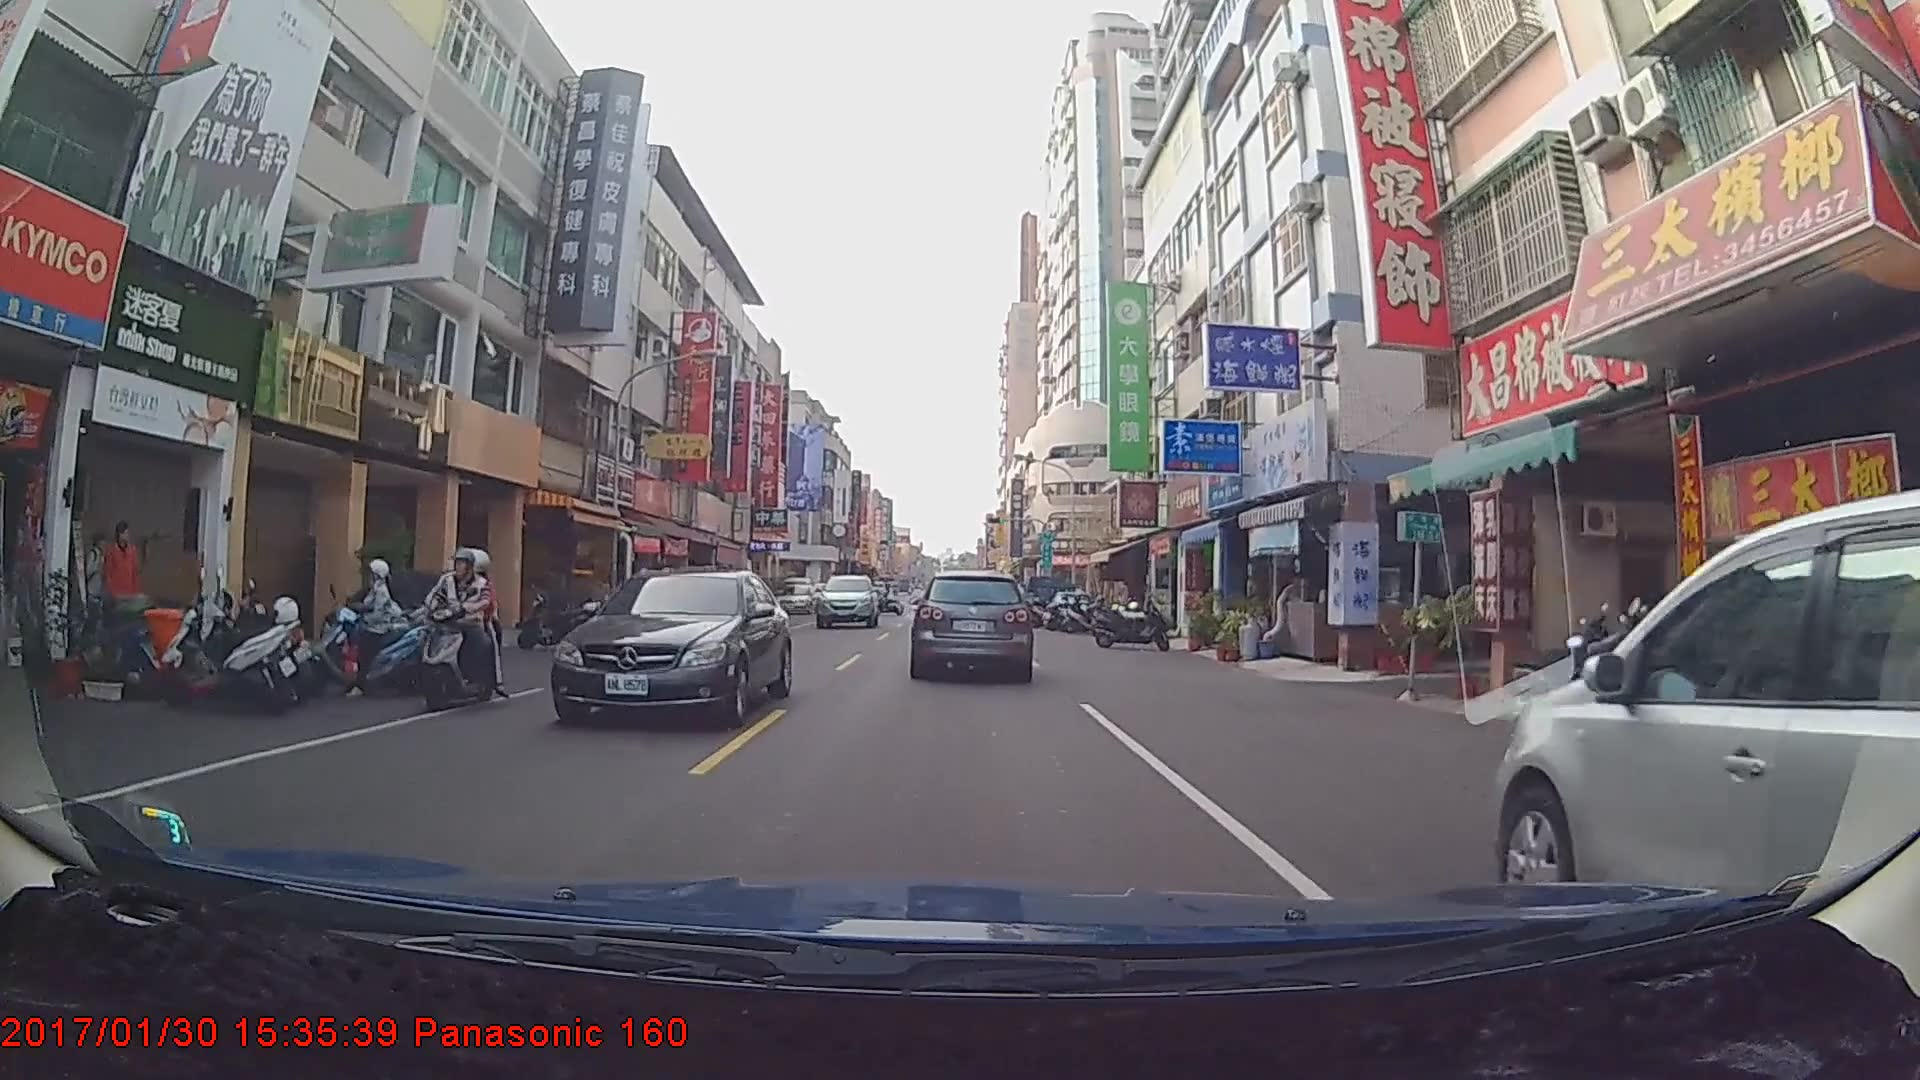pedestrian: (102, 515, 149, 645), (81, 520, 119, 638)
rider: (400, 543, 513, 716)
vehicle: (1498, 489, 1919, 996), (547, 568, 791, 730), (912, 569, 1030, 679), (814, 572, 879, 630), (1024, 574, 1072, 619)
